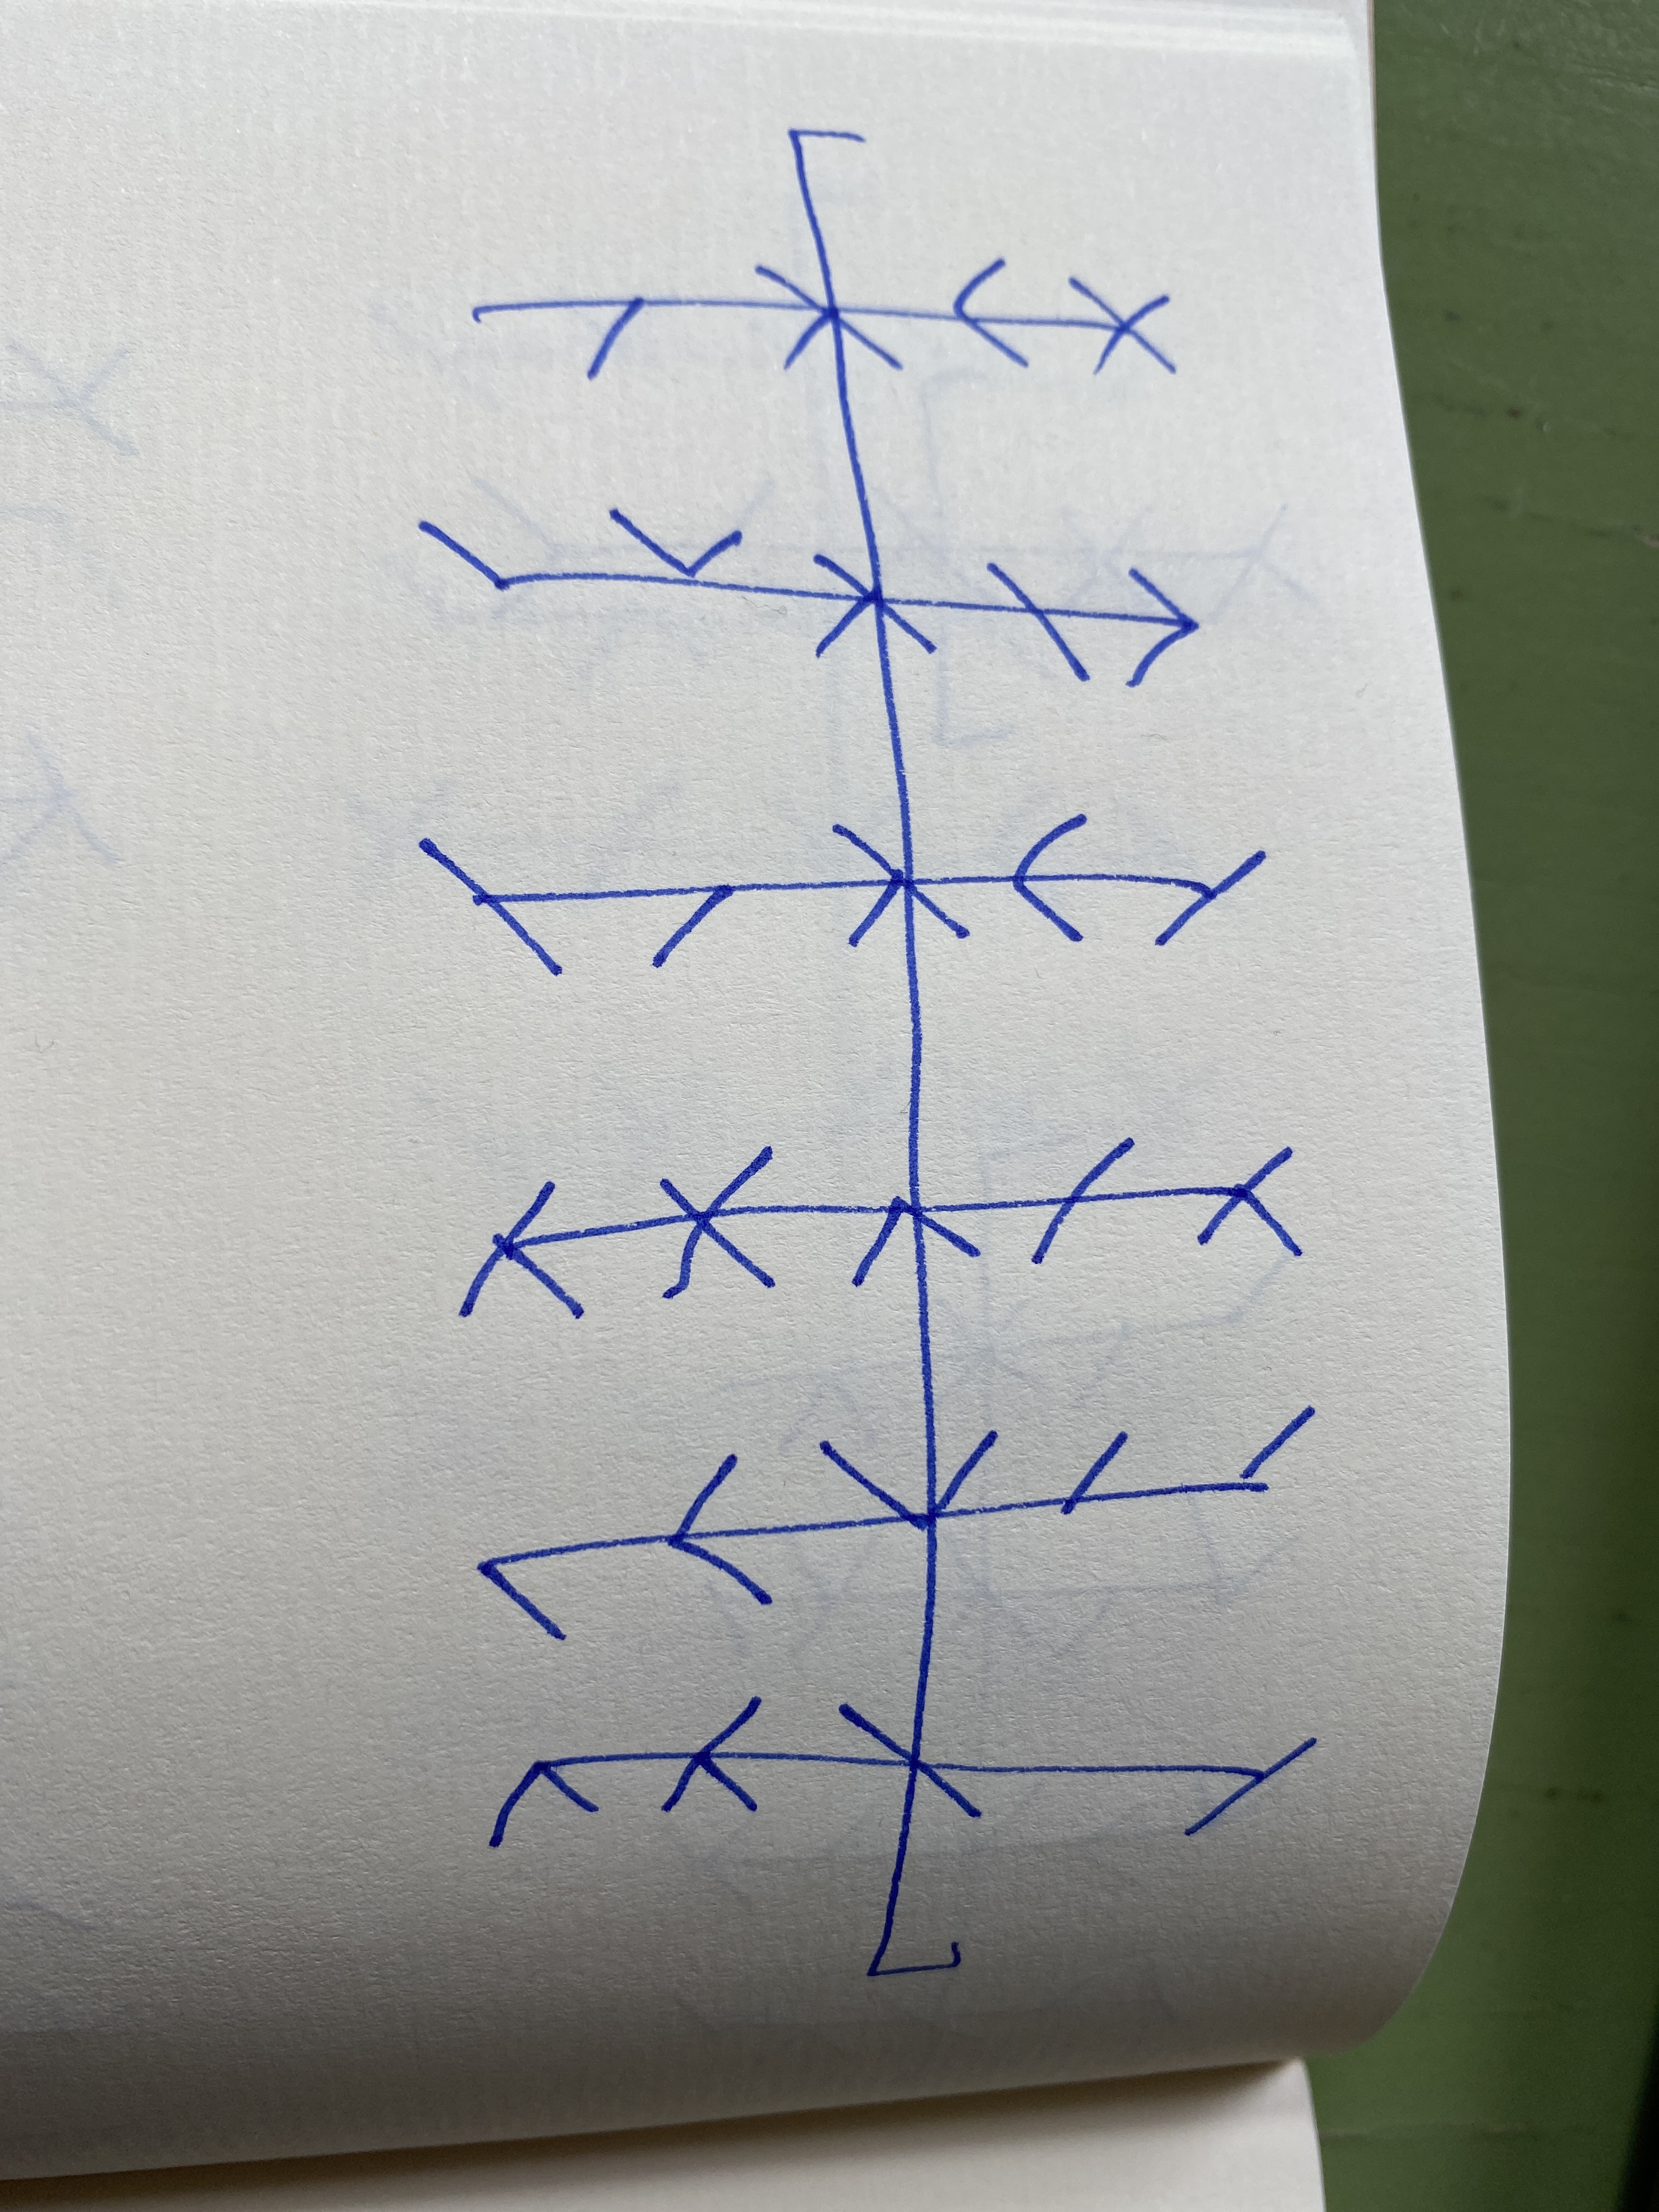Bar: (477, 1407, 1316, 1642), (458, 1136, 1304, 1318), (418, 505, 1201, 686), (416, 810, 1267, 975), (488, 1696, 1317, 1850), (472, 256, 1178, 383)
Barcode: (411, 129, 1319, 1980)
End: (870, 1810, 964, 1979)
Start: (788, 131, 866, 277)
